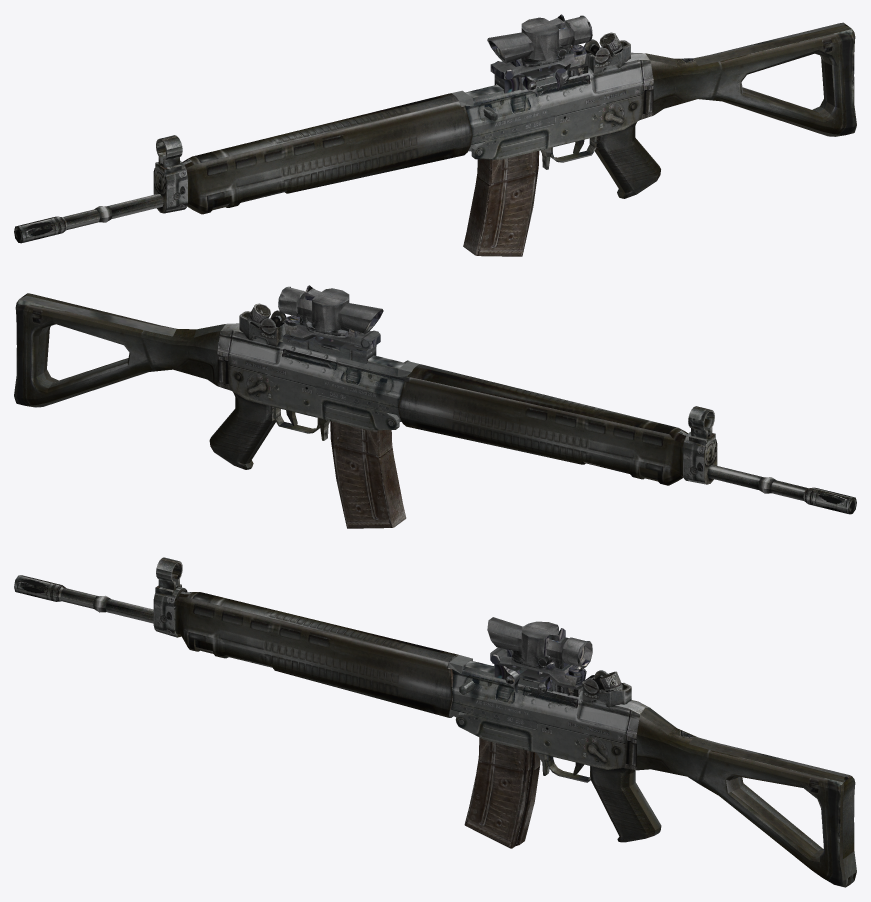
Rendered from w_sig550_susat.obj.
3 renders of one model, top to bottom at view 1: azimuth 30°, elevation 25°; view 2: azimuth 150°, elevation 25°; view 3: azimuth 330°, elevation 25°, orthographic.
Visible parts, largest first — view 1: Sig550, W_Susat; view 2: Sig550, W_Susat; view 3: Sig550, W_Susat.
Part boxes in pixels (<box>): Sig550: <box>14,22,856,256</box>; W_Susat: <box>487,14,592,95</box>; Sig550: <box>14,293,856,528</box>; W_Susat: <box>278,285,383,363</box>; Sig550: <box>14,557,856,887</box>; W_Susat: <box>487,617,592,697</box>.
Size of the model in its own units: 13.63 by 3.55 by 0.7992.
